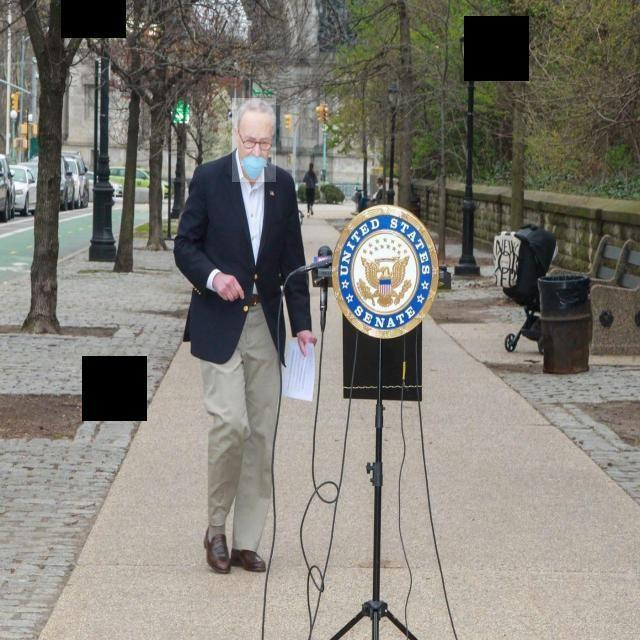hairnet: (233, 135, 277, 182)
